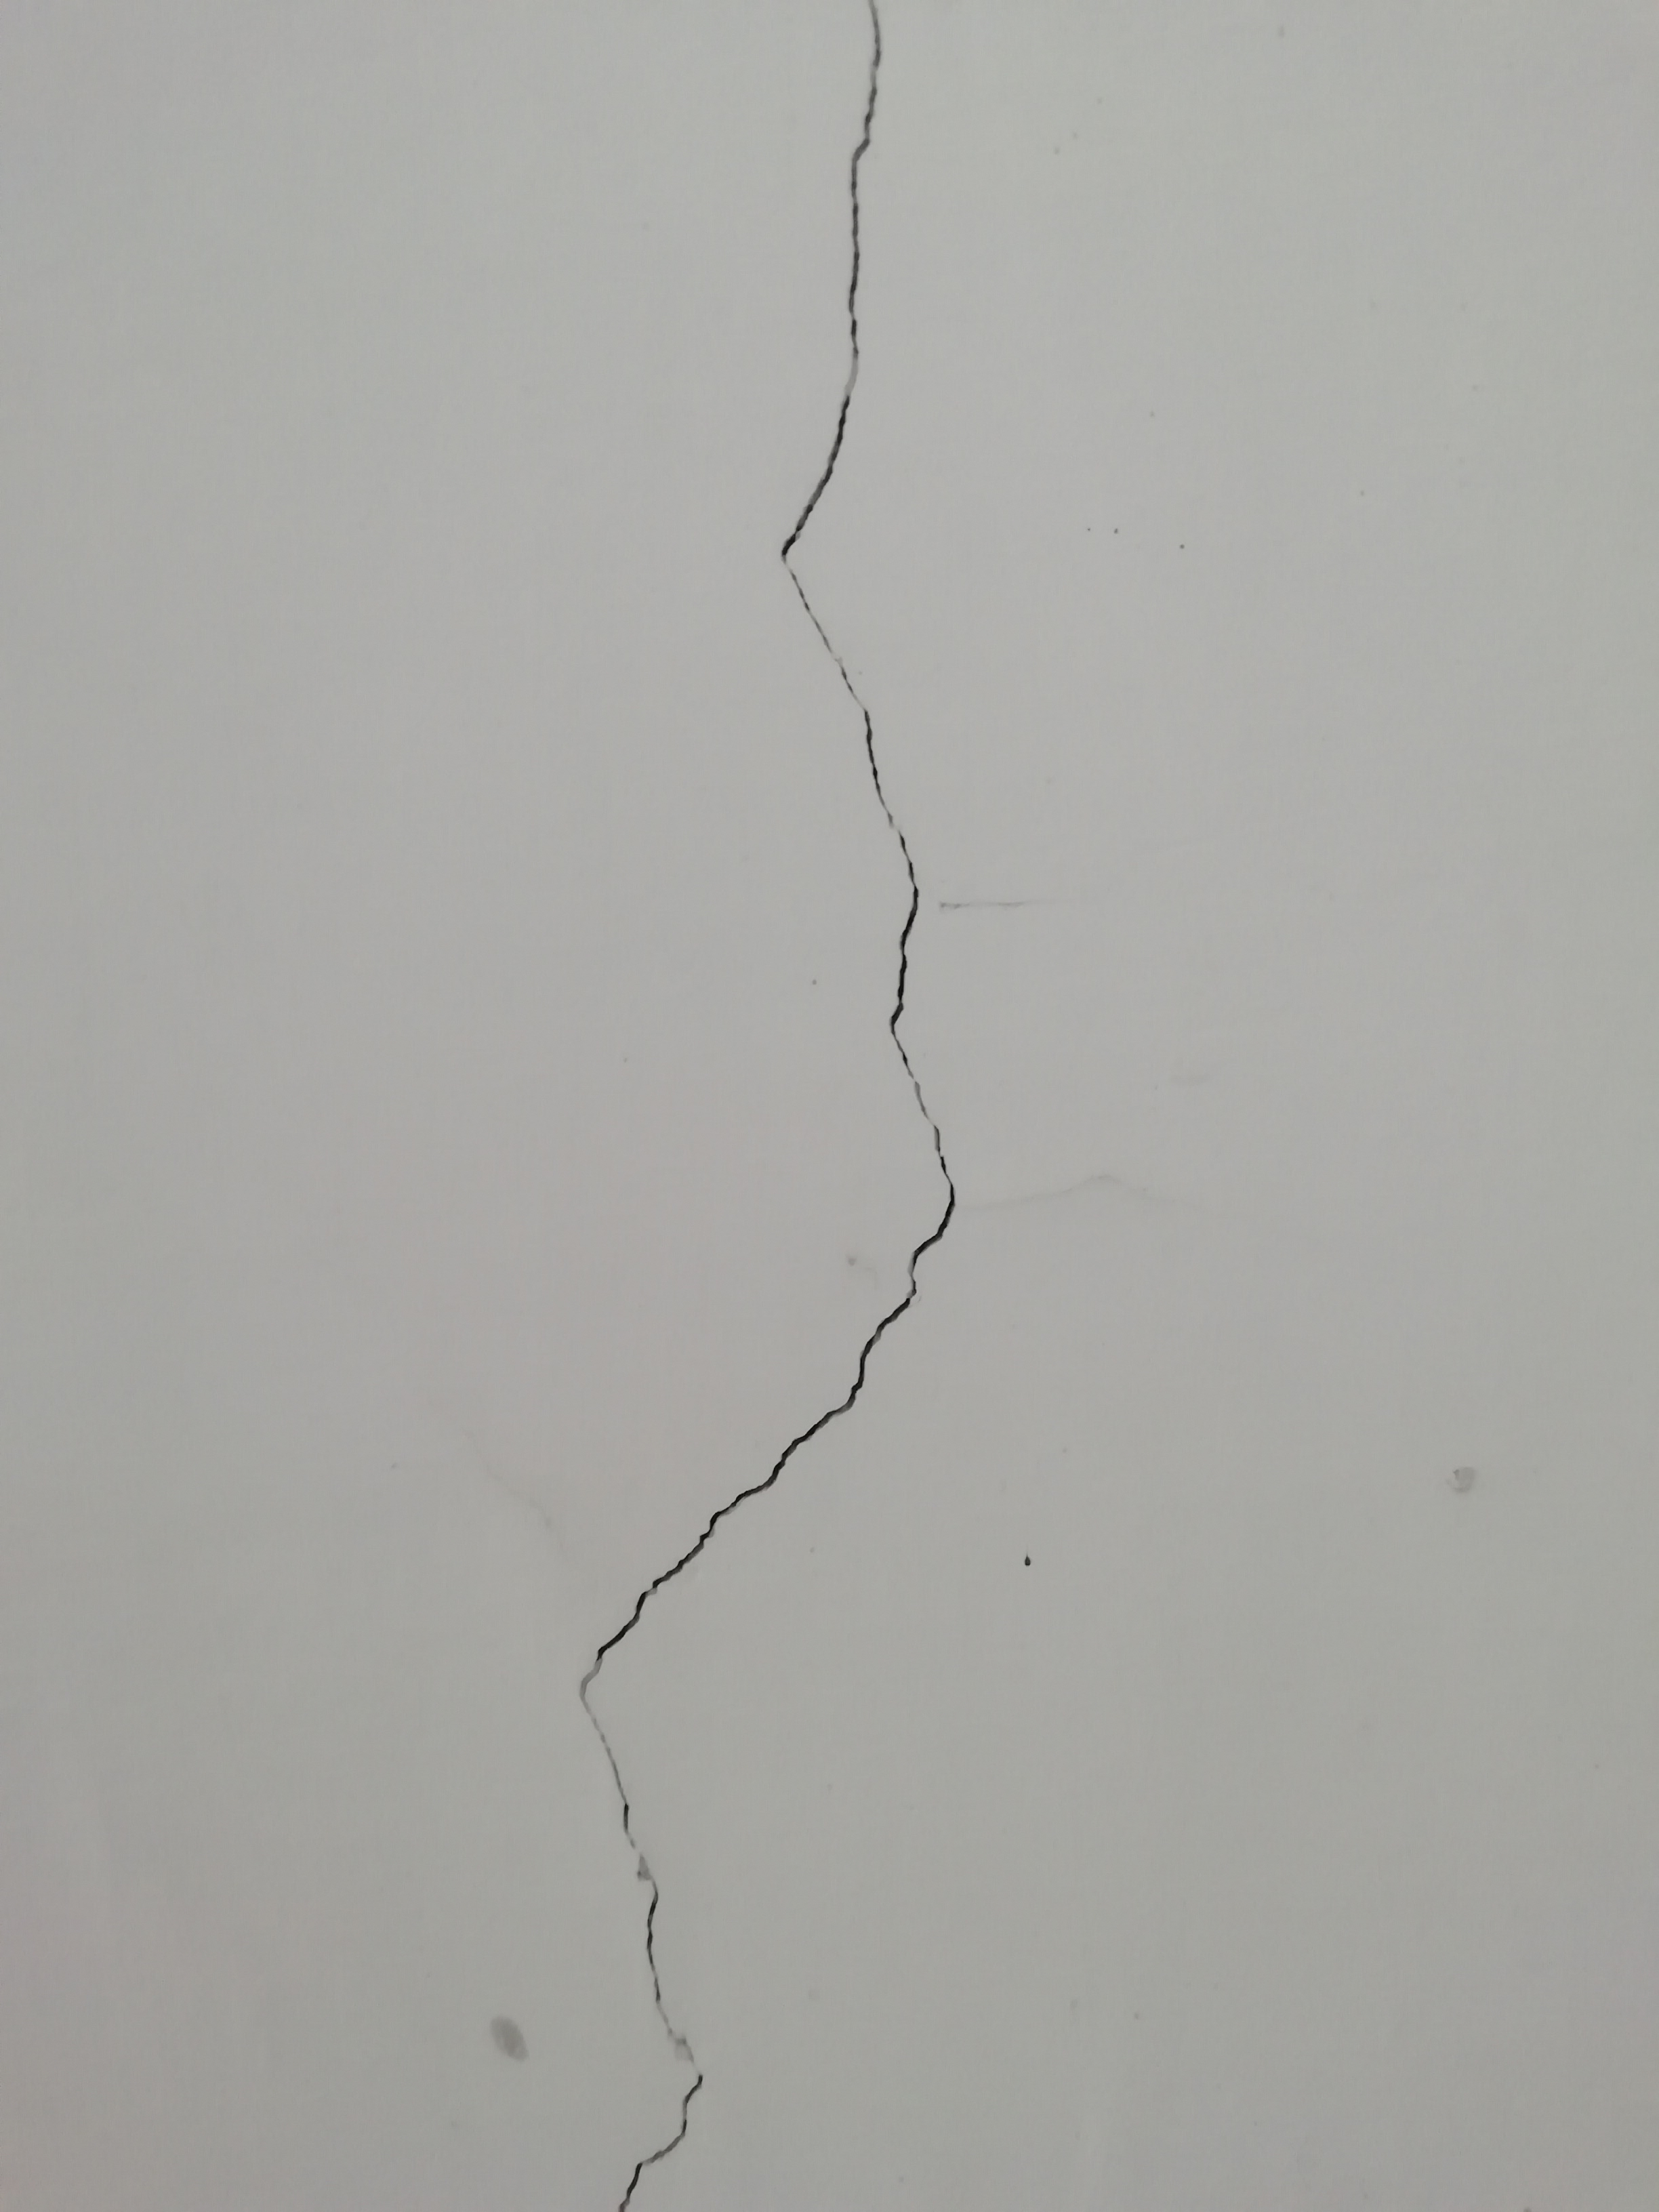Crack: (763, 3, 986, 1451), (544, 1444, 831, 2209)
